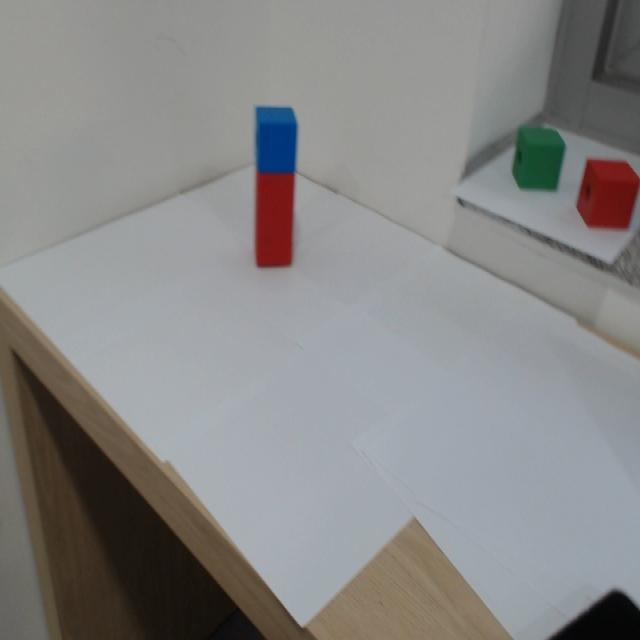cube: (242, 91, 311, 167)
